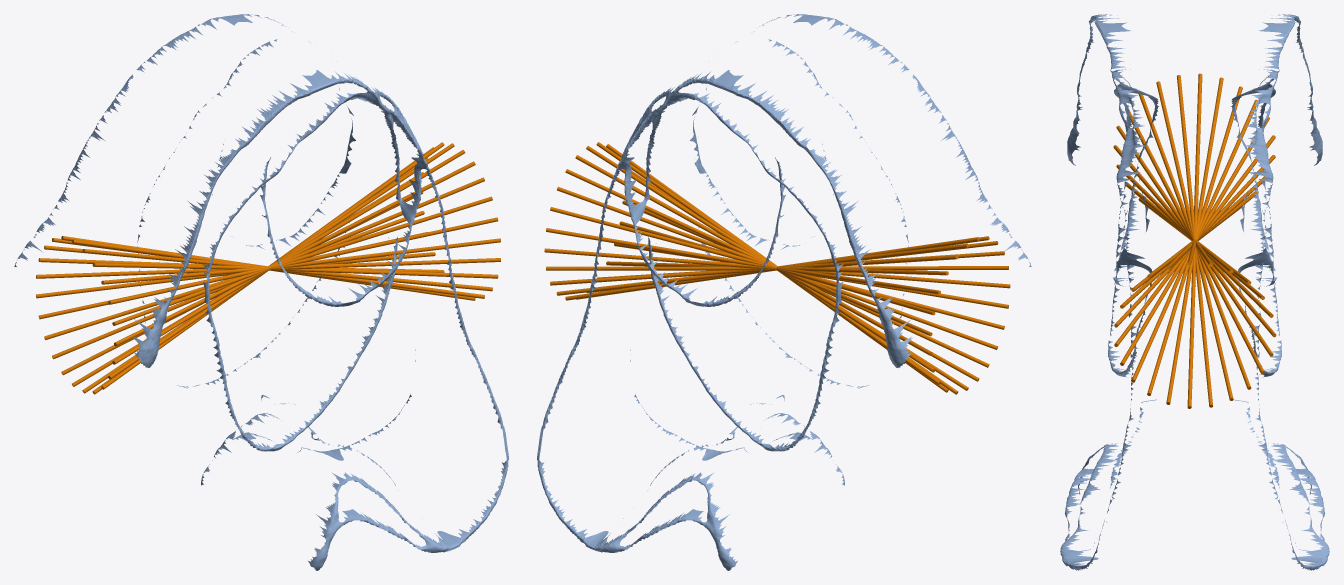
File: A20021018_6145-37-530-7655_DigitalTwin.glb
3 views of the same model, side by side, from view 1: azimuth 30°, elevation 25°; view 2: azimuth 150°, elevation 25°; view 3: azimuth 270°, elevation 25° (orthographic).
Visible parts, largest first — view 1: world; view 2: world; view 3: world.
Part boxes in pixels (x1,y1,x2,y2): world: (14,14,508,570); world: (537,14,1031,570); world: (1060,14,1329,570).
Size of the model in its own units: 449 by 532 by 270.
